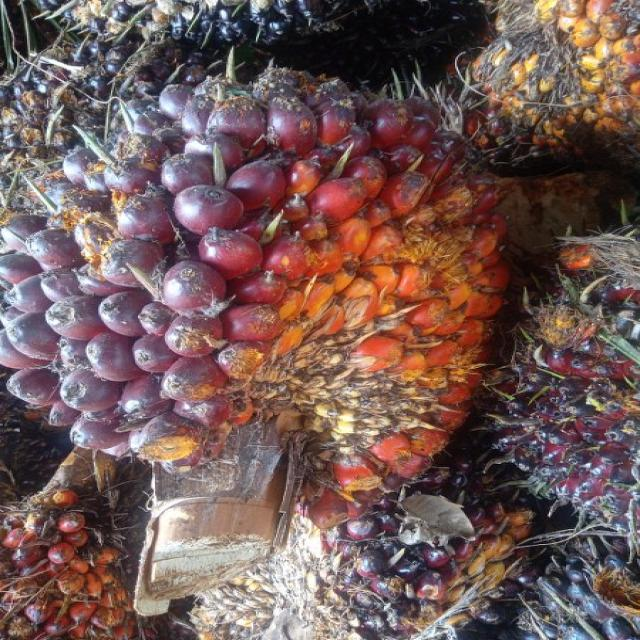fraksi 3: (0, 73, 613, 540)
